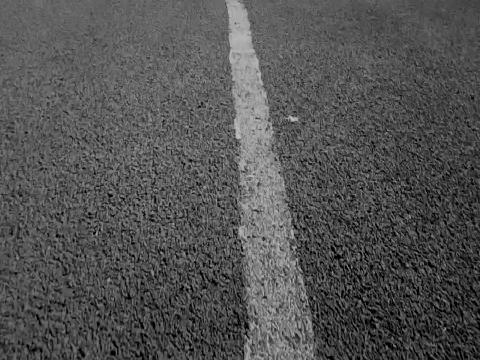Lines: (226, 0, 317, 360)
